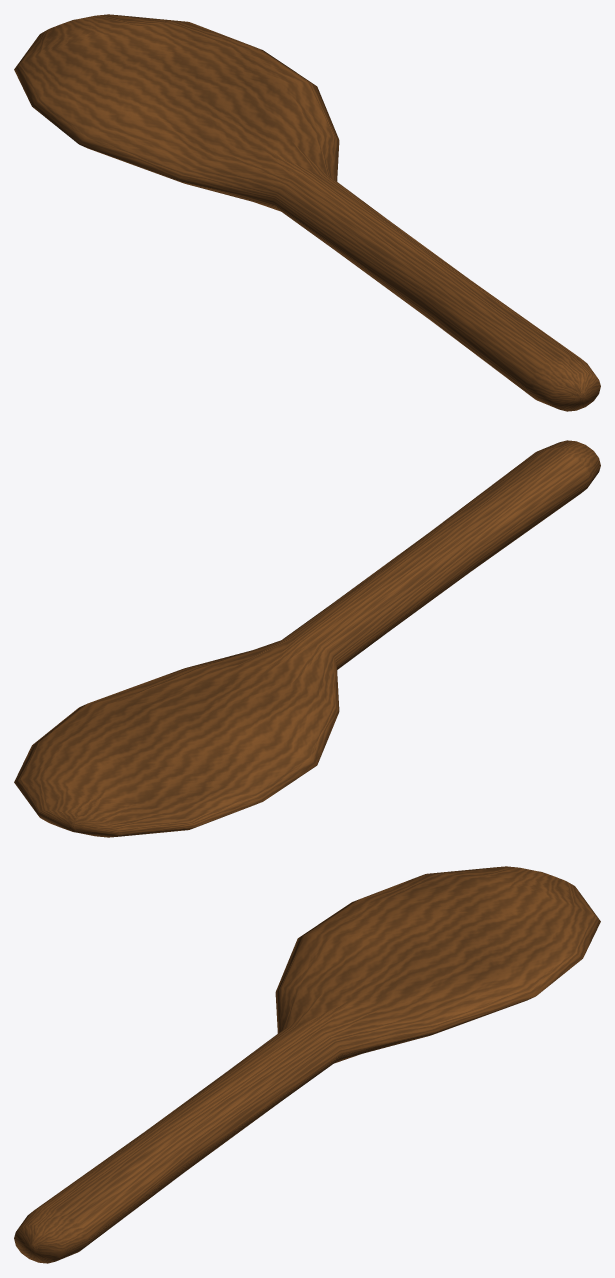
The model's file is SM_RicePaddle.fbx.
The picture shows the model from 3 angles, top to bottom: view 1: azimuth 30°, elevation 25°; view 2: azimuth 150°, elevation 25°; view 3: azimuth 330°, elevation 25°; orthographic projection.
Parts seen in each view (by area): view 1: Paddle_Mesh; view 2: Paddle_Mesh; view 3: Paddle_Mesh.
Boxes of the visible parts, box(x1,y1,x2,y2) form: Paddle_Mesh: box(14, 14, 600, 411); Paddle_Mesh: box(14, 440, 600, 837); Paddle_Mesh: box(14, 866, 600, 1263).
Size of the model in its own units: 0.068 by 0.012 by 0.252.
1 material, 1 textured.
